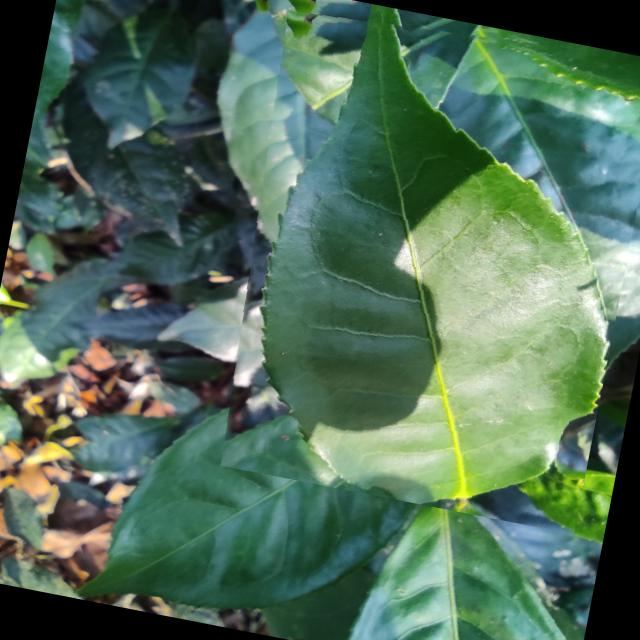Category D(7+ days, Not for Tea): (200, 0, 640, 534)
